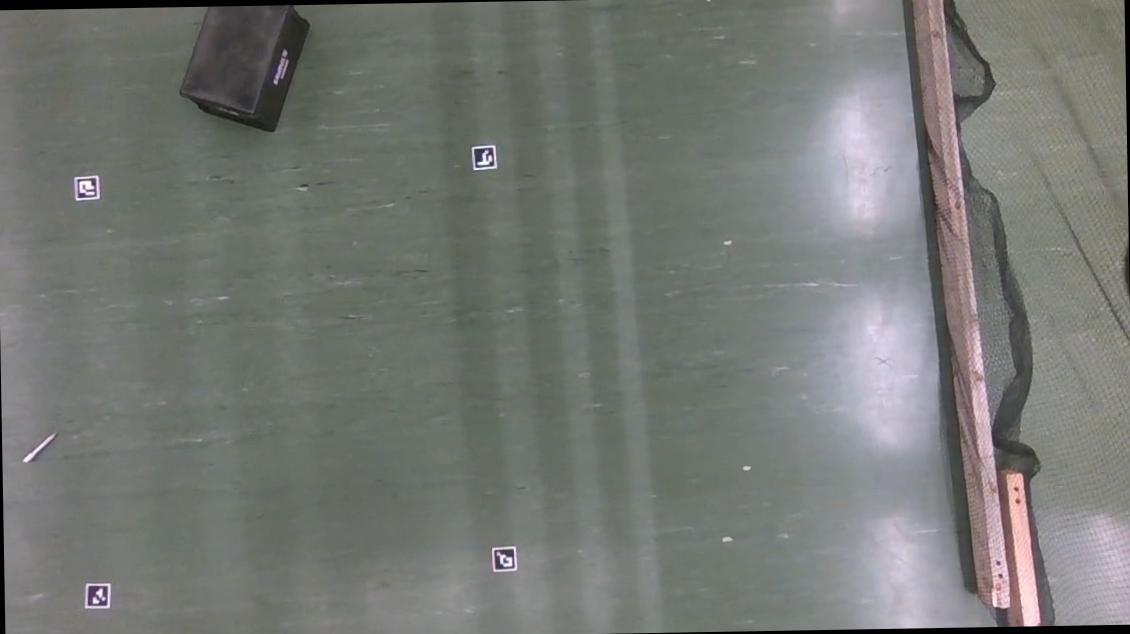probes: (22, 430, 57, 462)
rako: (178, 4, 314, 134)
